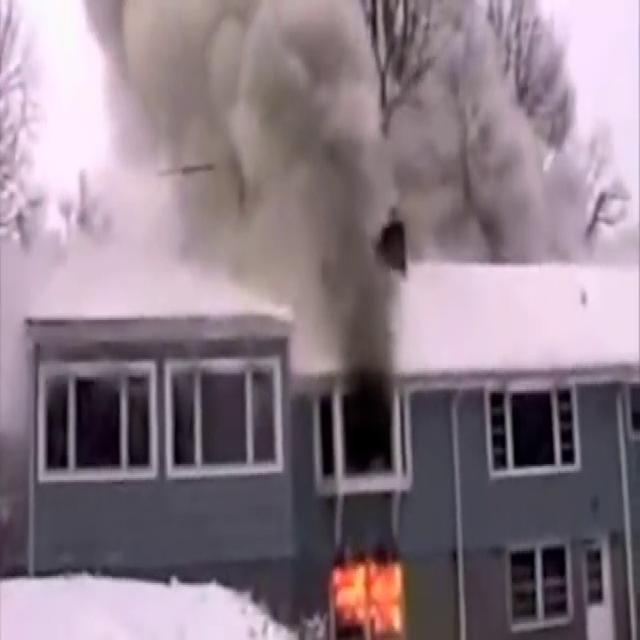Fire: (326, 534, 419, 638)
Smoke: (21, 0, 608, 327)
